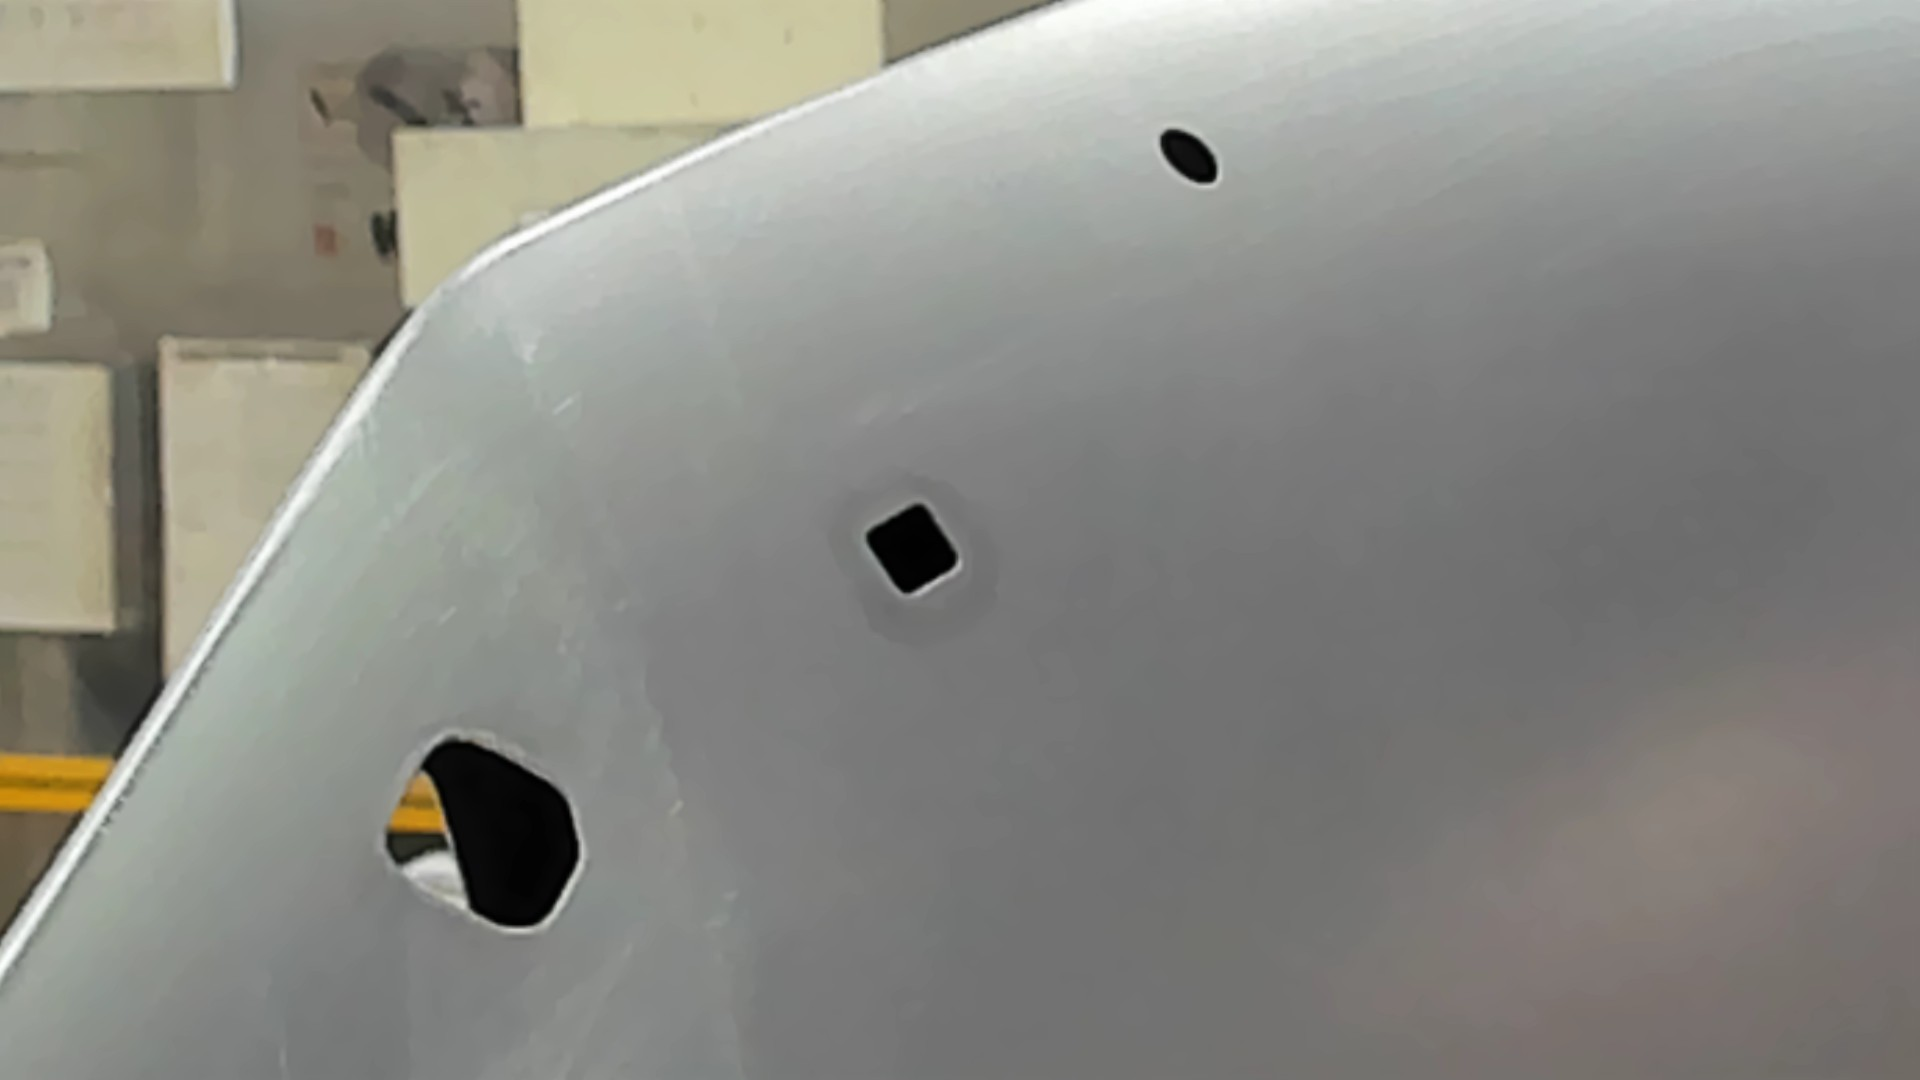chico: (1154, 123, 1224, 189)
grande: (375, 727, 591, 942)
mediano: (861, 498, 967, 603)
